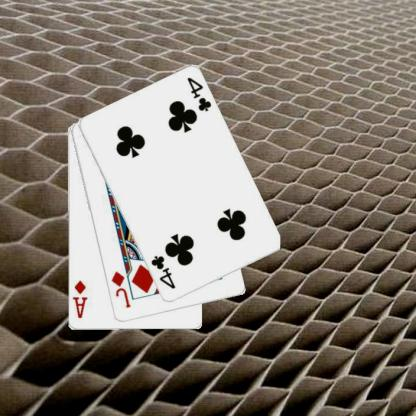4C: (150, 253, 179, 291), (186, 75, 215, 113)
AD: (71, 278, 90, 320)
JD: (110, 268, 133, 310)
